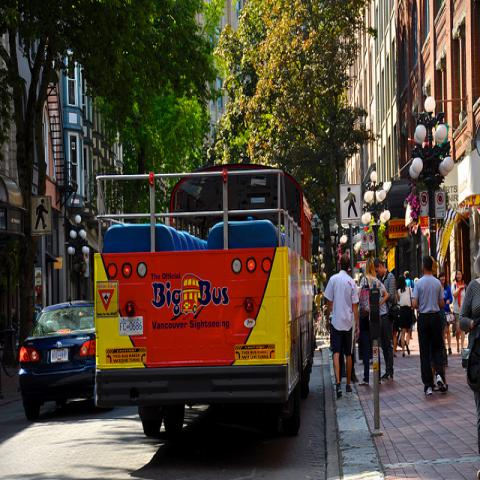bus: (93, 166, 320, 436)
car: (18, 302, 97, 421)
